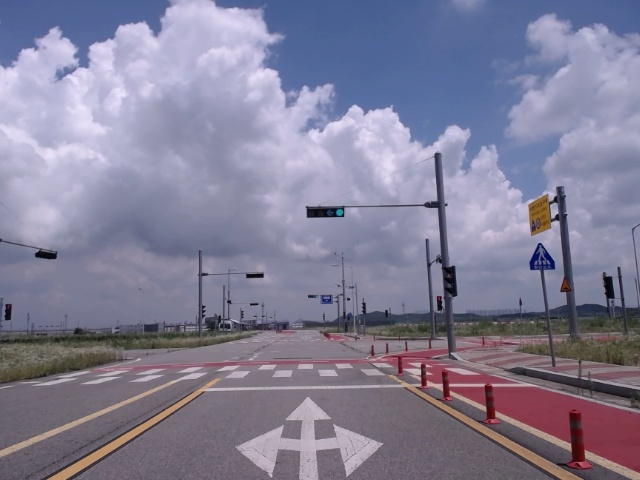all_green_4: (307, 206, 344, 217)
